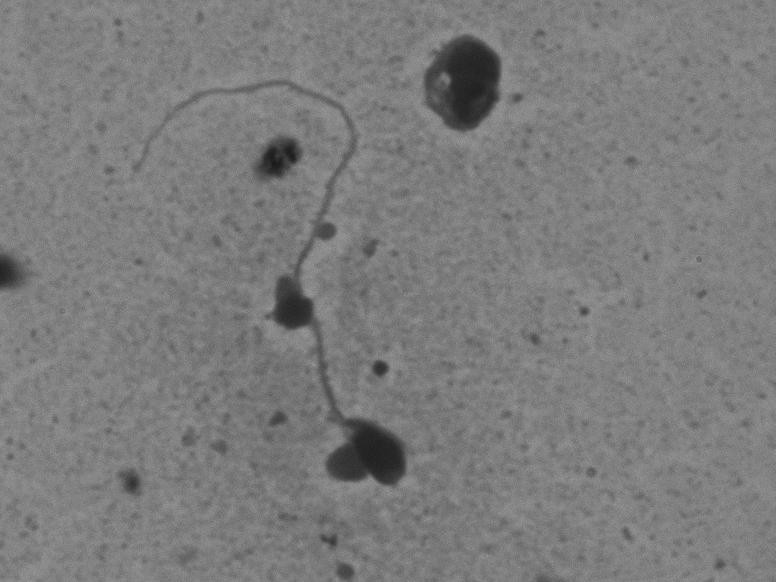Abnormal: (87, 51, 433, 522)
